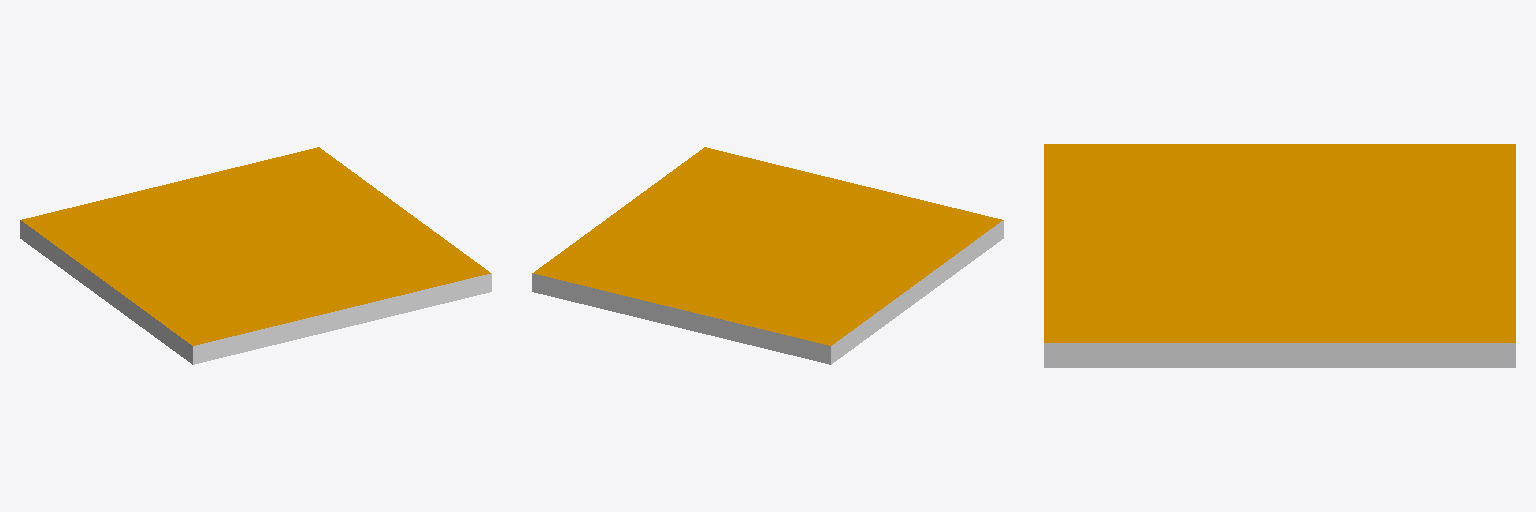
robot.urdf — ar_2020:
<robot name="ar_2020">

	<!-- * * * Link Definitions * * * -->

    <link name="simple_box_base_link">
 	    <inertial>
            <origin xyz="0 0 0" rpy="0 0 0"/>
            <mass value="1.0" />
            <inertia ixx="0.0741666666667" ixy="0.0" ixz="0.0" iyy="0.0585416666667" iyz="0.0" izz="0.0260416666667"/>
        </inertial>
        <collision>
            <origin xyz="0 0 0" rpy="0 0 0"/>
            <geometry>
                <box size="0.25 0.50 0.1"/>
            </geometry>
        </collision>
        <visual>
            <origin rpy="0.0 0 0" xyz="0 0 0"/>
            <geometry>
                <!--<box size="0.8 0.8 0.2"/>-->
                <mesh filename="package://asl_turtlebot/models/box_doughnut/box_doughnut.dae"/>
            </geometry>
        </visual>
    </link>
    
    <gazebo reference="simple_box_base_link">
        <kp>100000.0</kp>
        <kd>100000.0</kd>
        <mu1>0.1</mu1>
        <mu2>0.1</mu2>
        <fdir1>1 0 0</fdir1>
    </gazebo>

</robot>

--- What the picture shows (computed from the rendered views, not written in the file) ---
The picture shows the robot from 3 angles, left to right: view 1: azimuth 30°, elevation 25°; view 2: azimuth 150°, elevation 25°; view 3: azimuth 270°, elevation 25°; orthographic projection.
Robot: ar_2020 — 1 links, 0 joints (none); root link simple_box_base_link; default pose: all joints at 0.
Links seen in each view (by area): view 1: simple_box_base_link; view 2: simple_box_base_link; view 3: simple_box_base_link.
Link boxes in pixels (x1,y1,x2,y2): simple_box_base_link: (20,147,491,364); simple_box_base_link: (532,147,1003,364); simple_box_base_link: (1044,144,1515,367).
Size in the robot's own frame: 0.25 by 0.25 by 0.015 metres.
Meshes: 1 distinct files referenced, 1 mesh visuals loaded (1 Collada DAE).